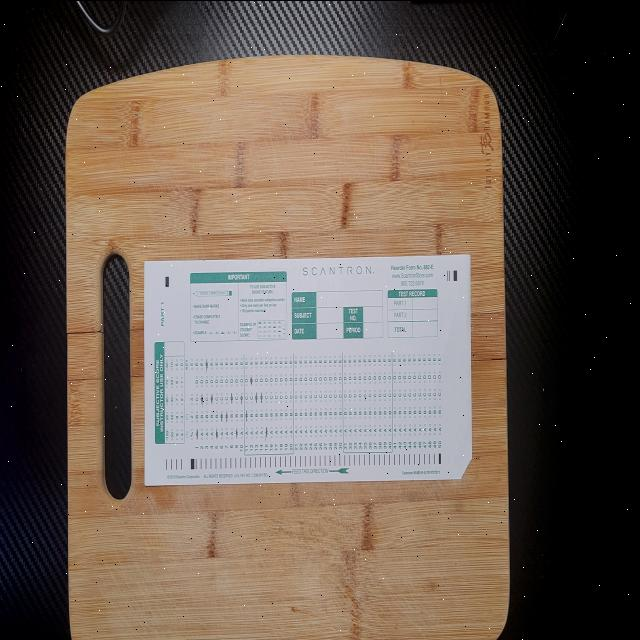scantron: (144, 252, 472, 485)
